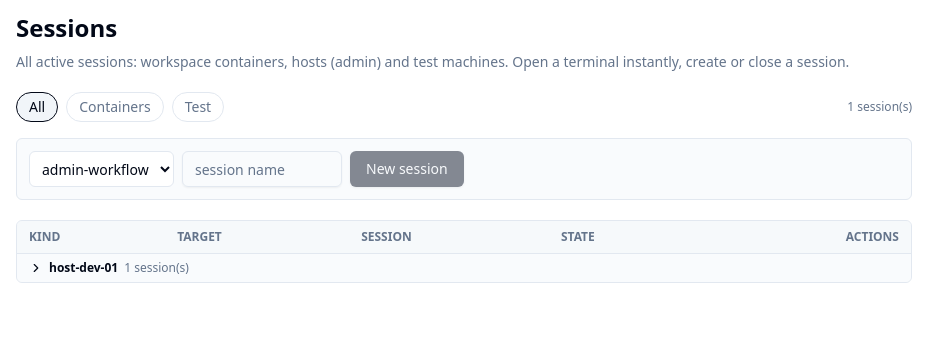
Test: SessionsView › badge « orphan » sur une session vivante hors registre
Step 1. Click the button "host-dev-01 1 session(s)" → point(84, 268), box [17,254,911,282]
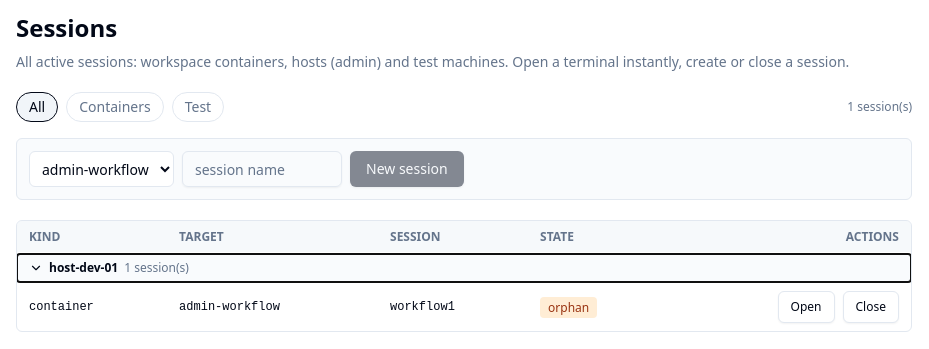
Result: the text "orphan" is shown at [540,297,597,318]
